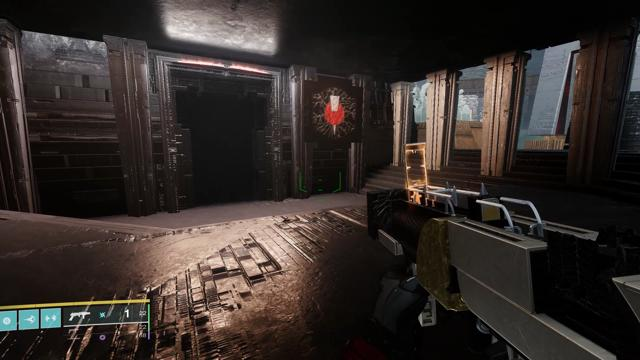kill: (312, 87, 356, 140)
